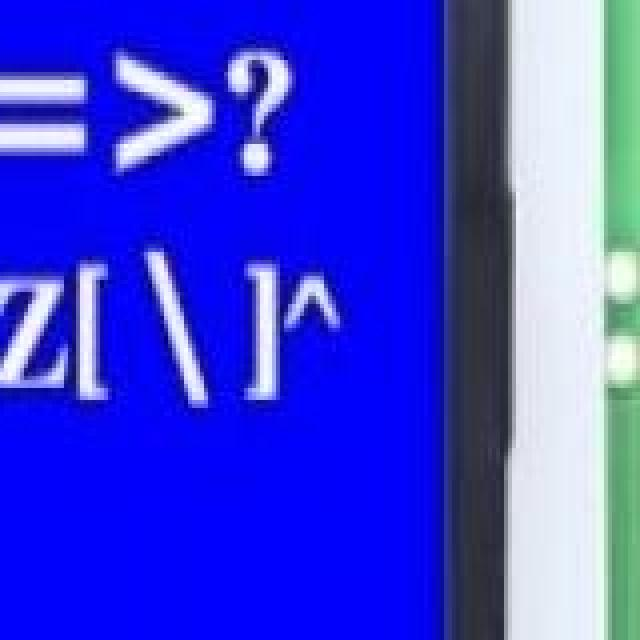display: (0, 0, 512, 640)
